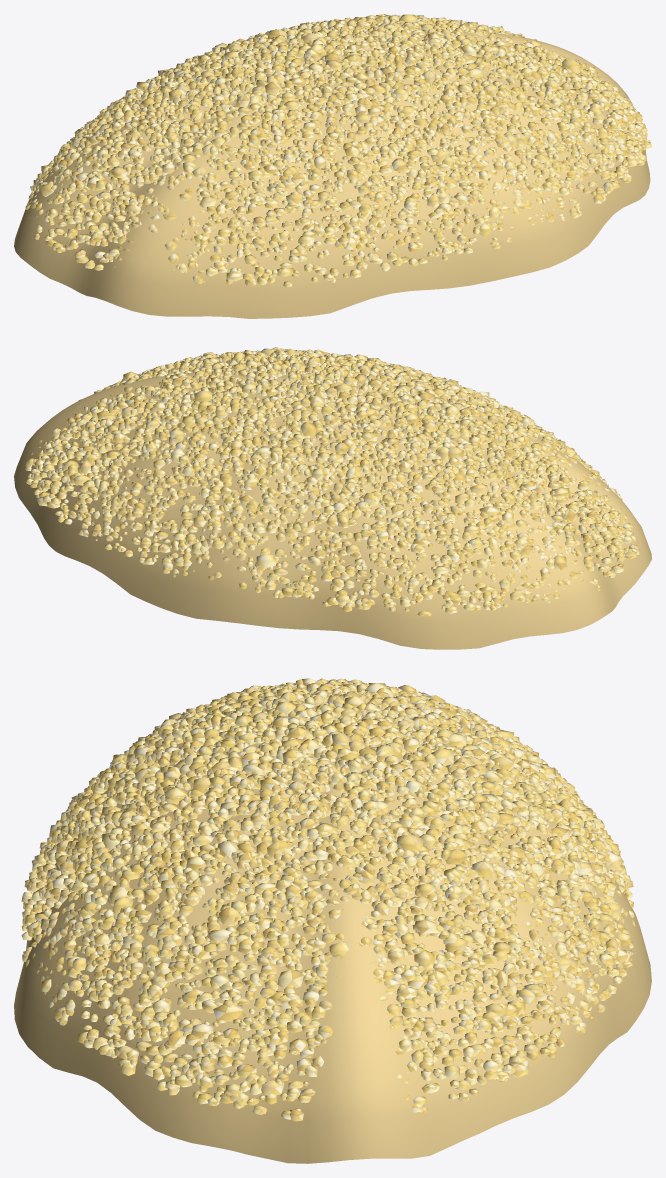
The model's file is arepa.glb.
The picture shows the model from 3 angles, top to bottom: view 1: azimuth 30°, elevation 25°; view 2: azimuth 150°, elevation 25°; view 3: azimuth 270°, elevation 25°; orthographic projection. The views are drawn at different scales.
Visible parts, largest first — view 1: 02 · Granos de maíz molido (7800), 01 · Volumen del montículo; view 2: 02 · Granos de maíz molido (7800), 01 · Volumen del montículo; view 3: 02 · Granos de maíz molido (7800), 01 · Volumen del montículo.
Part boxes in pixels (bbox=[...]): 02 · Granos de maíz molido (7800): bbox=[25, 14, 651, 287]; 01 · Volumen del montículo: bbox=[14, 23, 650, 318]; 02 · Granos de maíz molido (7800): bbox=[25, 347, 639, 616]; 01 · Volumen del montículo: bbox=[14, 364, 651, 649]; 02 · Granos de maíz molido (7800): bbox=[21, 678, 635, 1121]; 01 · Volumen del montículo: bbox=[14, 698, 651, 1163].
Size of the model in its own units: 4.91 by 1.29 by 3.32.
